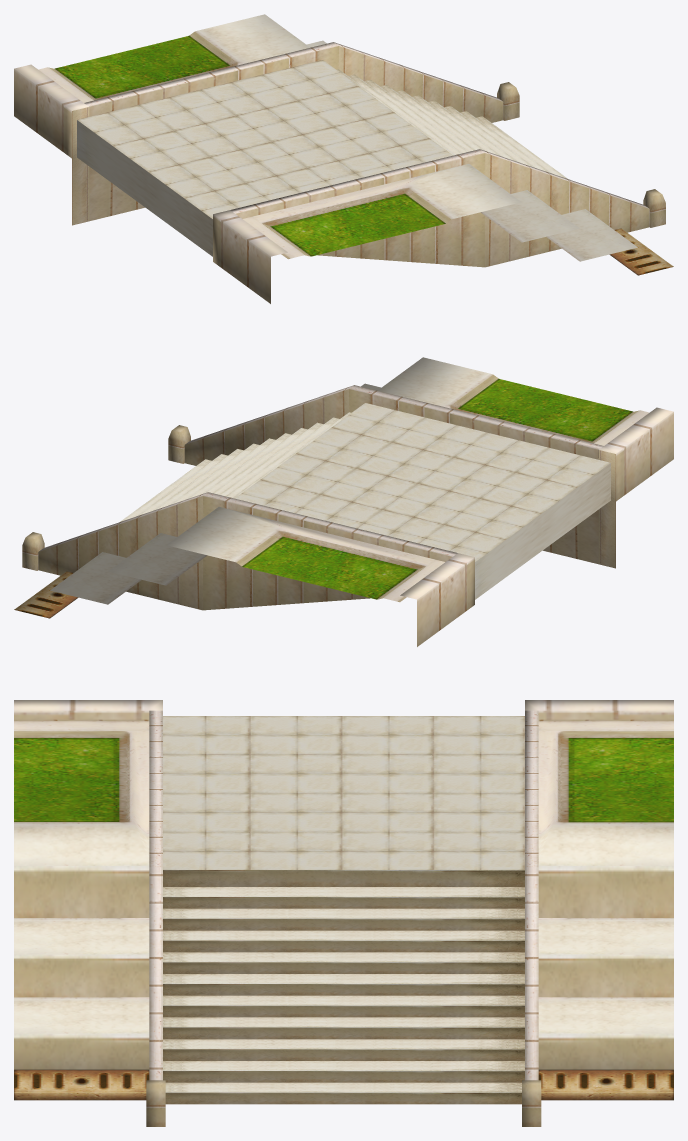
The model's file is a_SEstairs01.glb.
The picture shows the model from 3 angles, top to bottom: view 1: azimuth 30°, elevation 25°; view 2: azimuth 150°, elevation 25°; view 3: azimuth 270°, elevation 25°; orthographic projection. The views are drawn at different scales.
Parts seen in each view (by area): view 1: a_SEstairs01; view 2: a_SEstairs01; view 3: a_SEstairs01.
Part boxes in pixels (x1,y1,x2,y2): a_SEstairs01: [14, 14, 673, 303]; a_SEstairs01: [14, 357, 673, 646]; a_SEstairs01: [14, 700, 673, 1126].
Size of the model in its own units: 9.08 by 2.23 by 9.05.
Materials: 3 (3 with a texture image).
